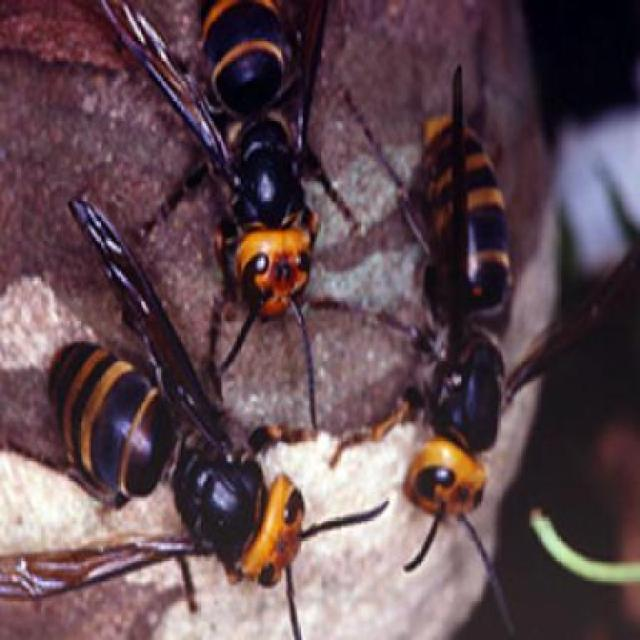Wasp: (25, 204, 302, 610), (359, 59, 538, 563), (91, 0, 337, 320)
